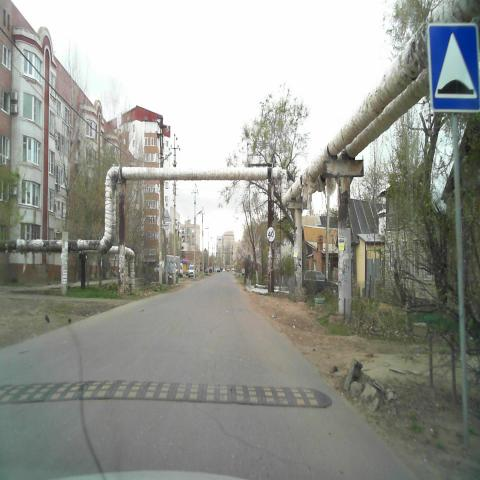3_25: (266, 226, 276, 243)
5_20: (427, 22, 480, 111)
